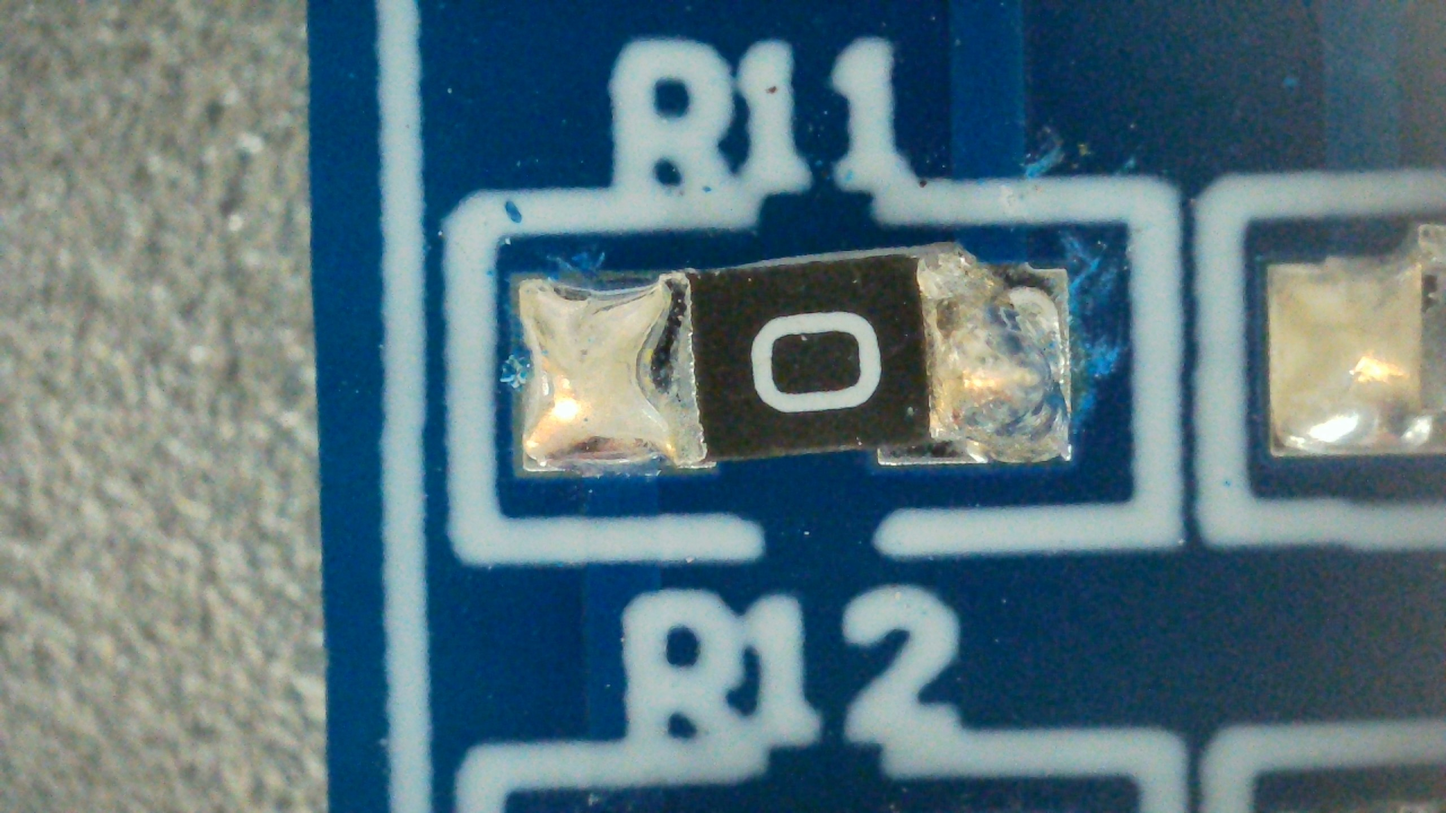NG: (515, 244, 1069, 477)
